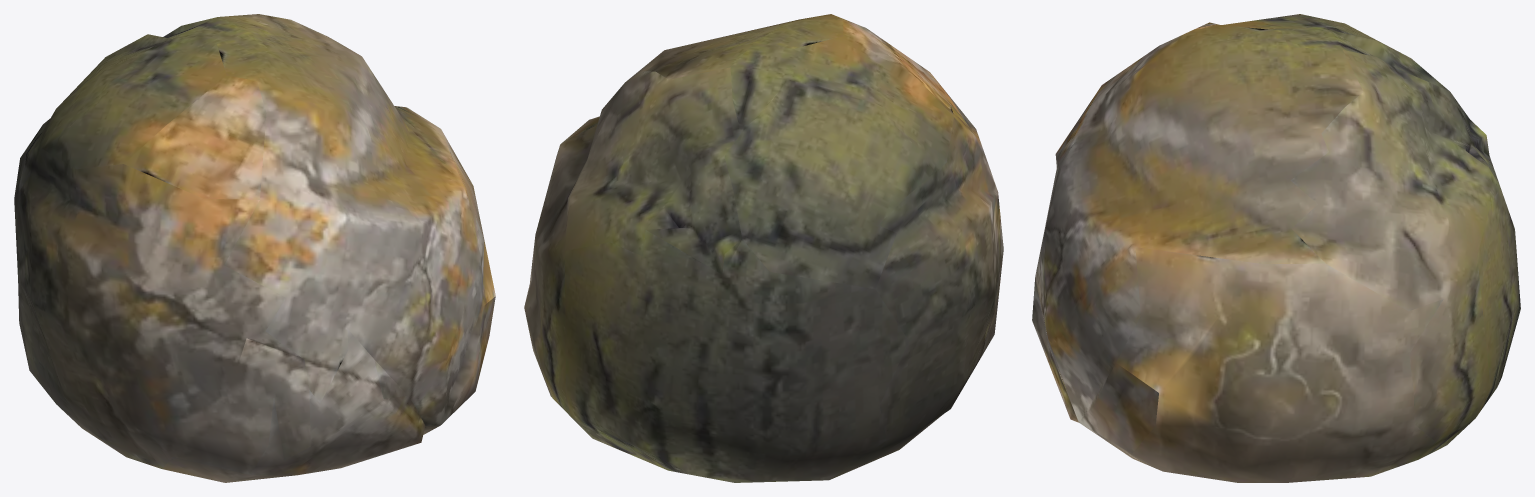
Rendered from boulder-1.phone.glb.
3 views of the same model, side by side, from view 1: azimuth 30°, elevation 25°; view 2: azimuth 150°, elevation 25°; view 3: azimuth 270°, elevation 25° (orthographic).
Visible parts, largest first — view 1: boulder-1.raw; view 2: boulder-1.raw; view 3: boulder-1.raw.
Boxes of the visible parts, x1,y1,x2,y2 form: boulder-1.raw: (14,14,495,482); boulder-1.raw: (524,14,1003,482); boulder-1.raw: (1032,14,1520,482).
Bounding box in the file's own units: 1.65 × 1.4 × 1.65.
Materials: 1 (1 with a texture image).
